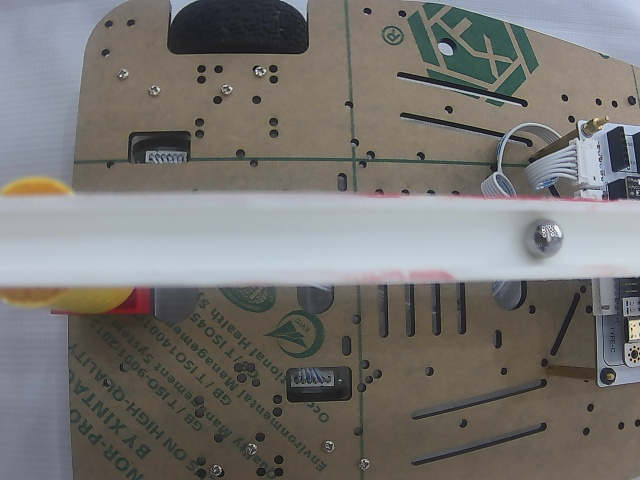steelball: (525, 218, 564, 258)
